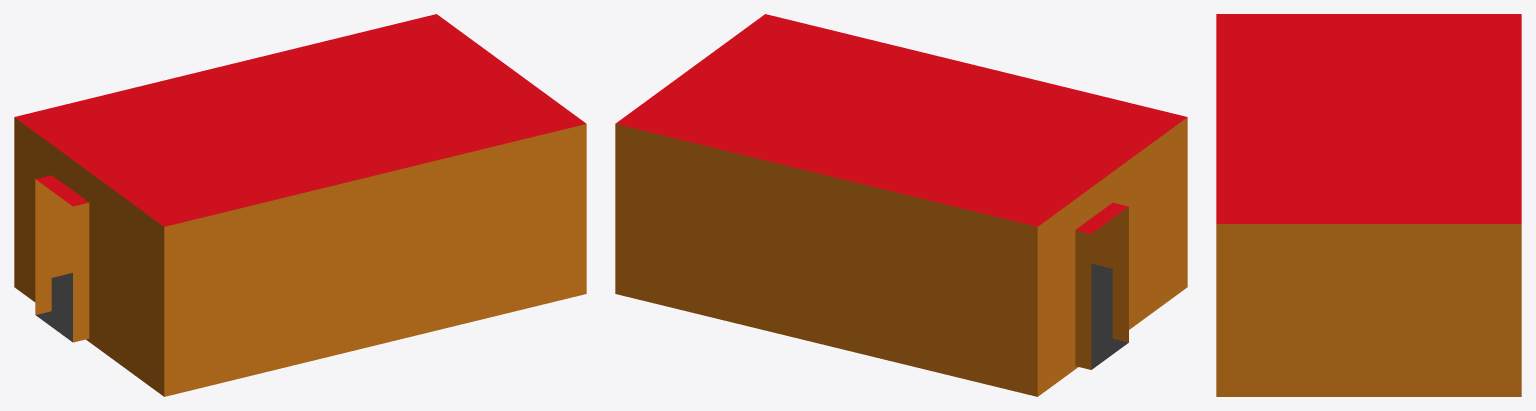
Rendered from Floor2_BedroomJessicaMesh.gltf.
3 renders of one model, left to right at view 1: azimuth 30°, elevation 25°; view 2: azimuth 150°, elevation 25°; view 3: azimuth 270°, elevation 25°, orthographic.
Visible parts, largest first — view 1: Floor2_BedroomJessicaMesh2; view 2: Floor2_BedroomJessicaMesh2; view 3: Floor2_BedroomJessicaMesh2.
Boxes of the visible parts, x1,y1,x2,y2 form: Floor2_BedroomJessicaMesh2: (14, 14, 586, 396); Floor2_BedroomJessicaMesh2: (615, 14, 1187, 396); Floor2_BedroomJessicaMesh2: (1216, 14, 1521, 396).
Bounding box in the file's own units: 13.5 × 5 × 8.
